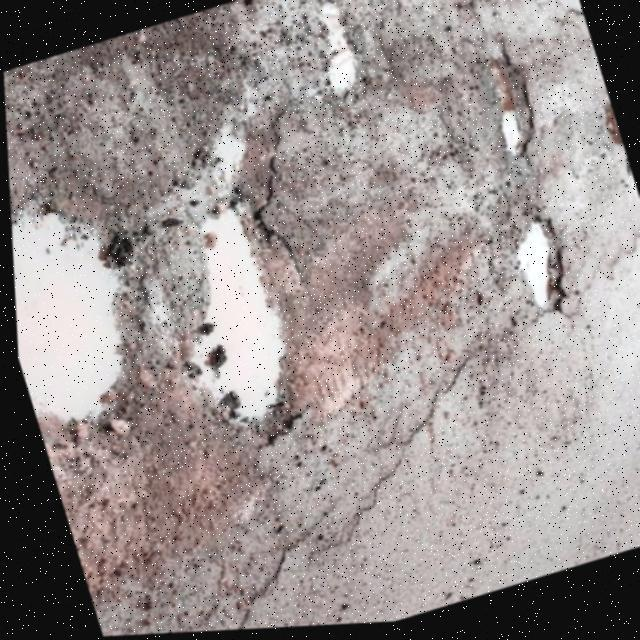pothole: (136, 180, 338, 464), (7, 161, 187, 460), (469, 44, 564, 174), (494, 204, 588, 328), (298, 0, 381, 109), (589, 94, 621, 154)
